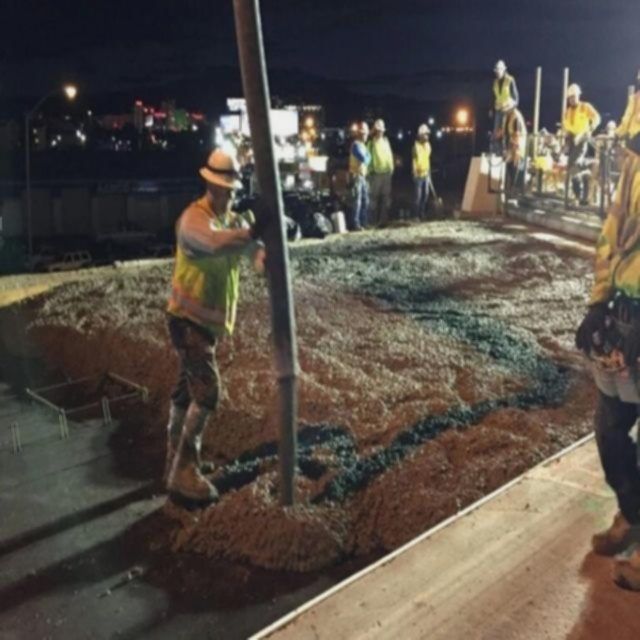Con_Casco: (201, 149, 244, 199)
Con_Chaleco: (166, 202, 246, 330), (493, 75, 516, 112), (410, 140, 431, 177)
